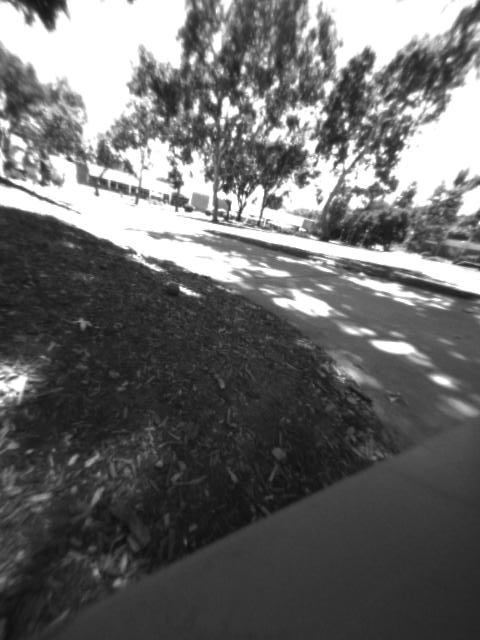dogtoy: (153, 271, 188, 304)
